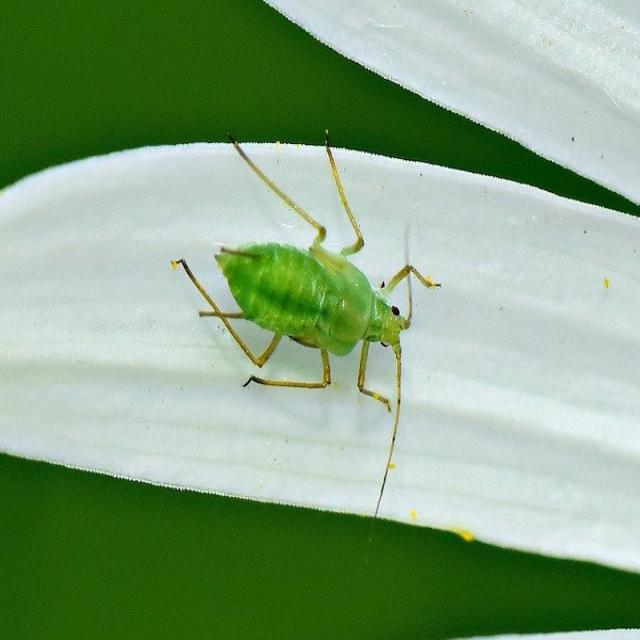Aphid-Grown-: (151, 118, 447, 421)
